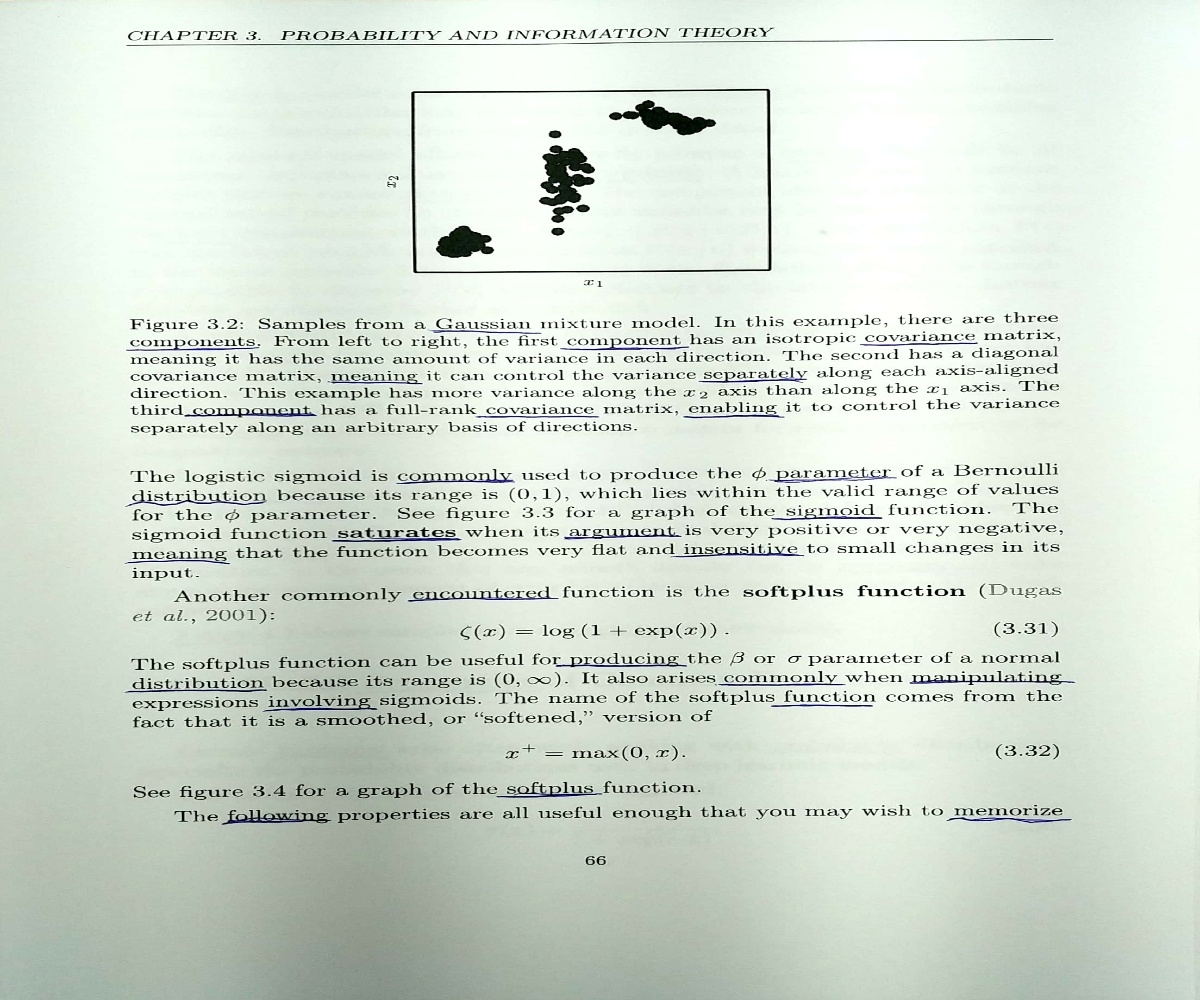underline: (904, 675, 1085, 688), (217, 811, 333, 830), (938, 812, 1083, 826), (118, 496, 274, 509), (259, 705, 386, 720), (559, 342, 696, 355), (712, 678, 848, 691), (176, 411, 323, 423), (423, 325, 546, 339), (552, 661, 700, 672), (471, 410, 604, 422), (392, 479, 522, 491), (327, 534, 468, 545), (668, 550, 809, 561), (559, 531, 687, 543), (119, 686, 272, 696), (404, 595, 566, 604), (766, 511, 886, 523), (856, 339, 983, 350), (765, 475, 903, 485), (680, 411, 789, 423), (123, 344, 266, 353), (121, 558, 233, 569), (326, 377, 426, 389), (491, 791, 609, 801), (696, 377, 810, 386), (767, 701, 879, 710)
